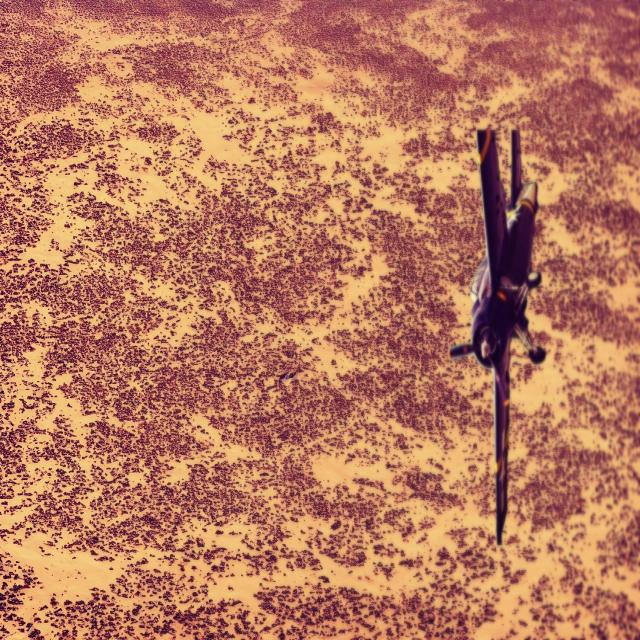airplane: (448, 126, 546, 545)
